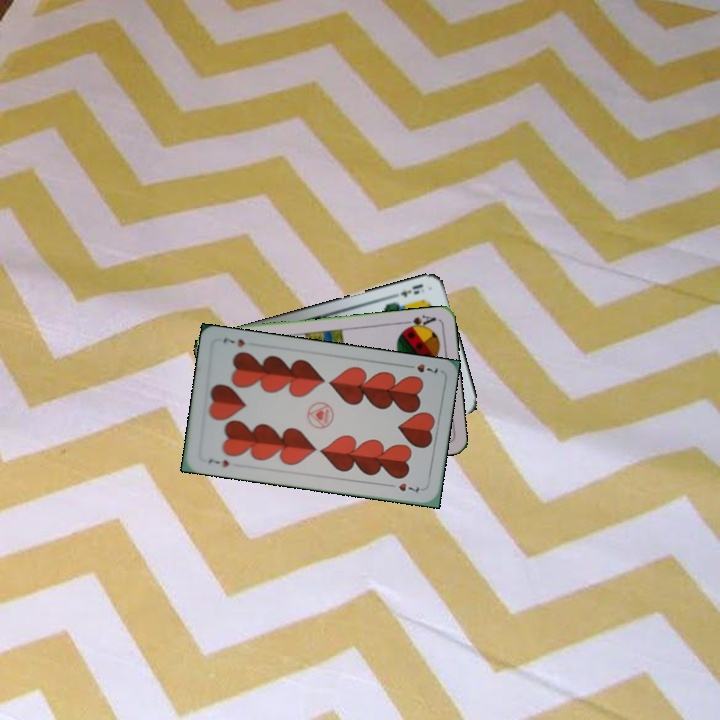EK: (397, 280, 426, 300)
H7: (401, 360, 441, 376), (204, 455, 232, 470)
SA: (399, 311, 439, 333)
